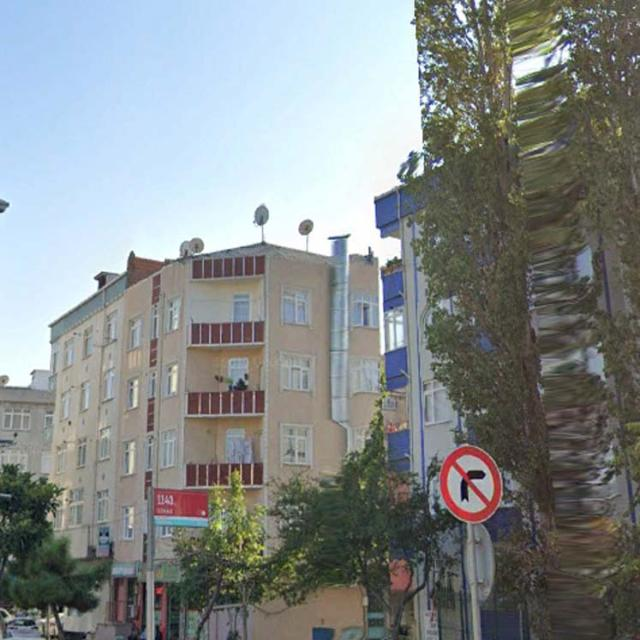sagadonulmez: (440, 442, 505, 522)
